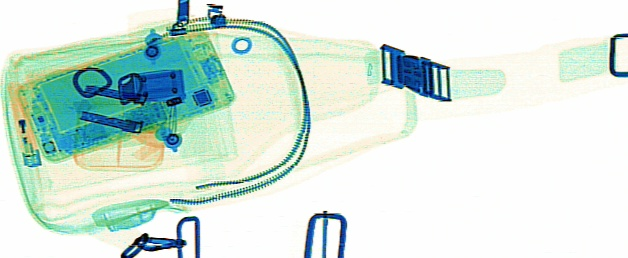lighter: (6, 81, 42, 167)
